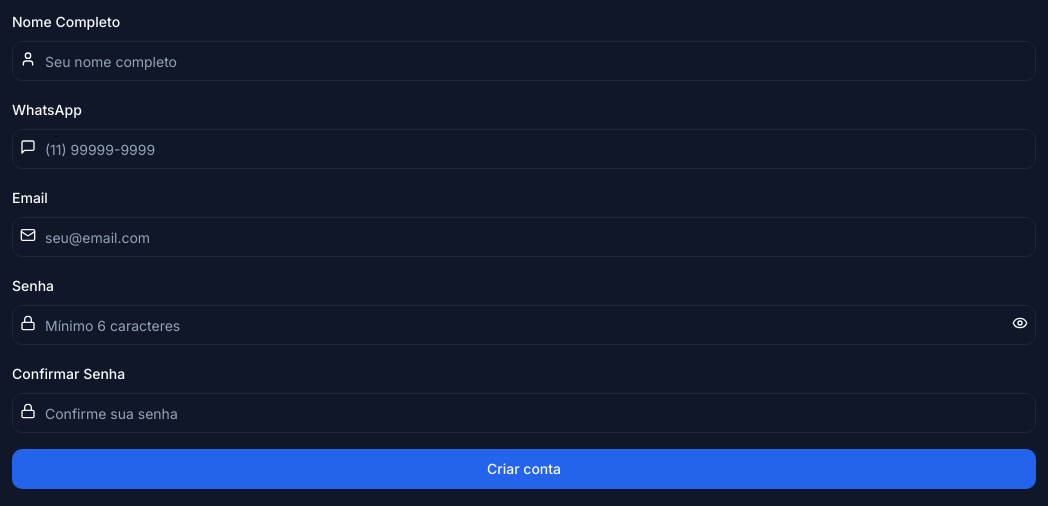
Test case: SignUpForm Component › Submissão do Formulário › deve mostrar estado de carregamento durante submissão
Step 1. Type "João Silva" into the field labelled "Nome Completo" → (524, 61), box [12,41,1036,81]
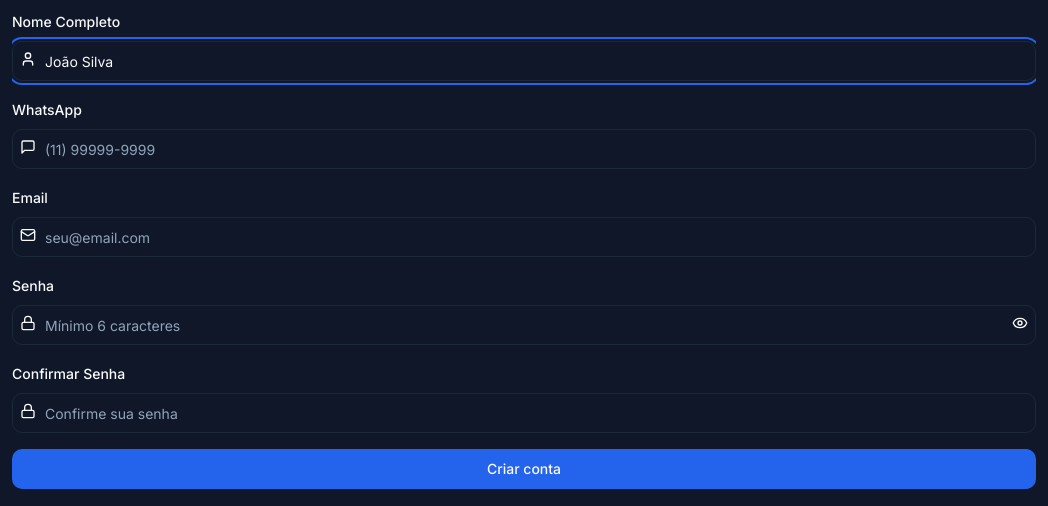
Step 2. Type "11999999999" into the field labelled "WhatsApp" → (524, 149), box [12,129,1036,169]
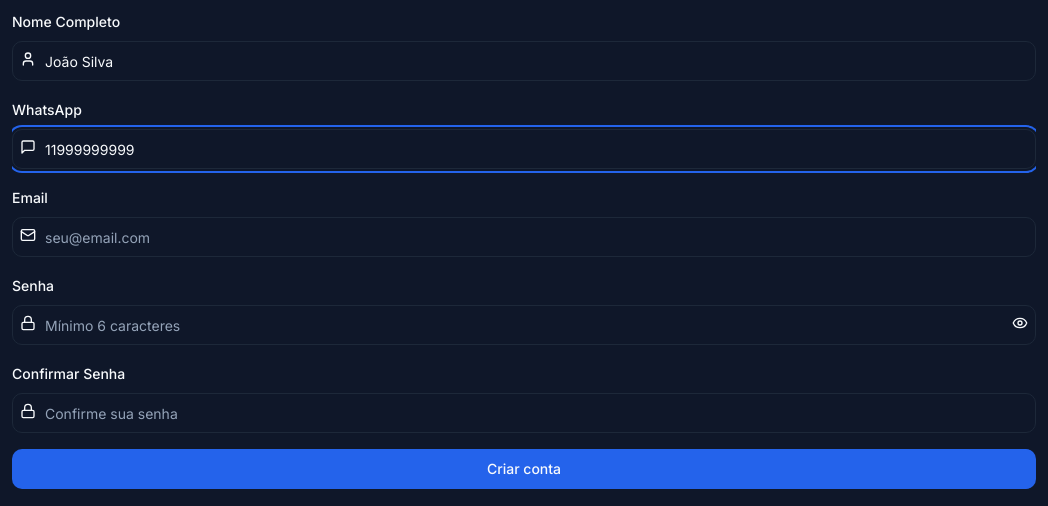
Step 3. Type "joao@test.com" into the field labelled "Email" → (524, 237), box [12,217,1036,257]
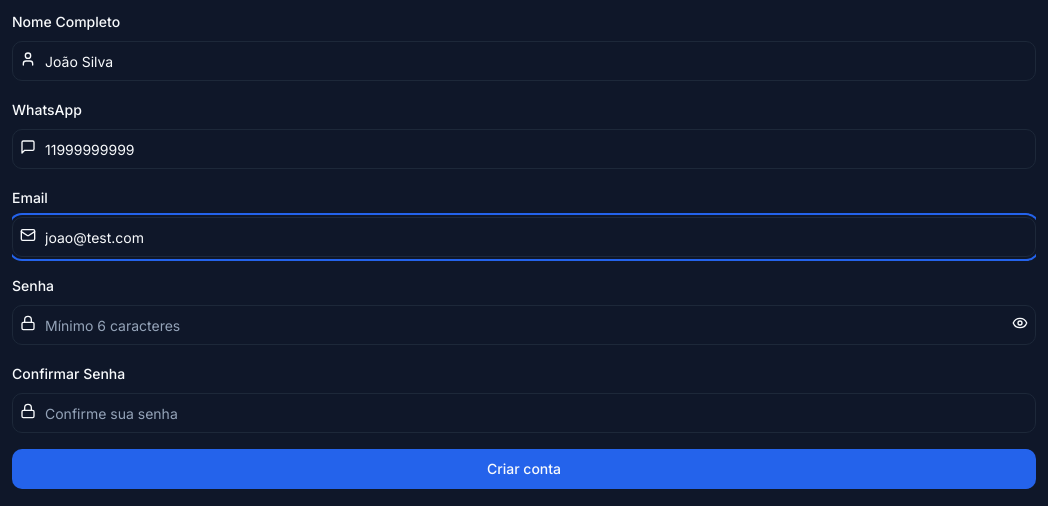
Step 4. Type "password123" into the password field labelled "Senha" → (524, 325), box [12,305,1036,345]
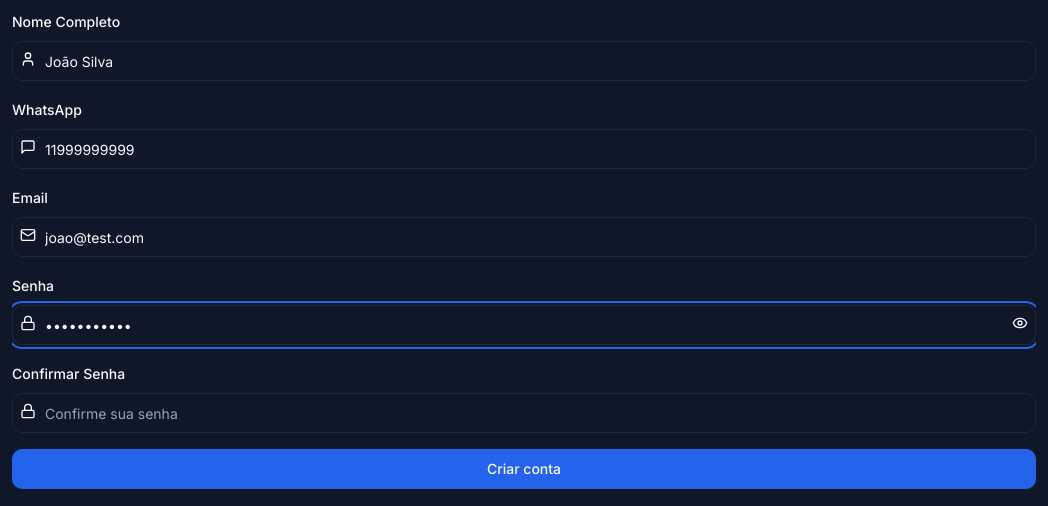
Step 5. Type "password123" into the password field labelled "Confirmar Senha" → (524, 413), box [12,393,1036,433]
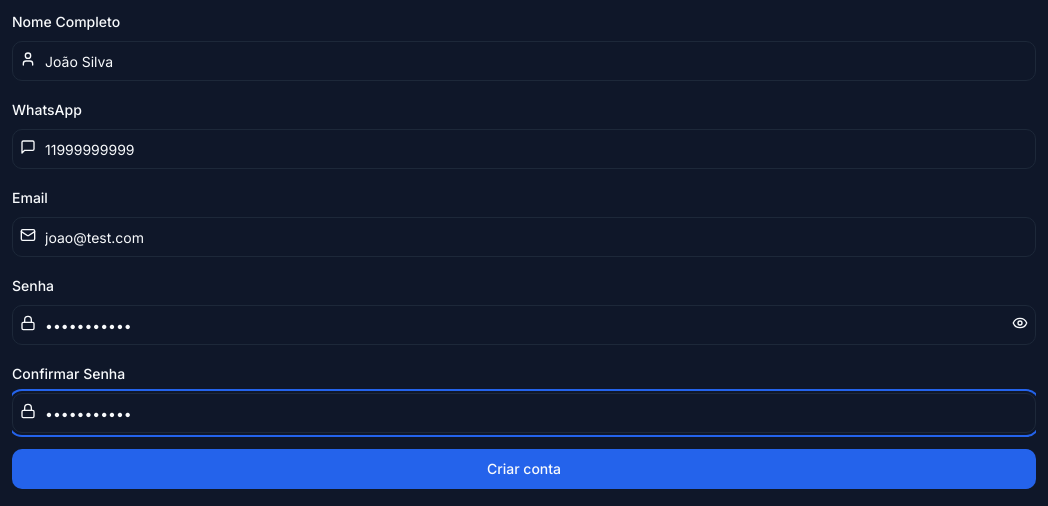
Step 6. Click the button "Criar conta" → (524, 469), box [12,449,1036,489]
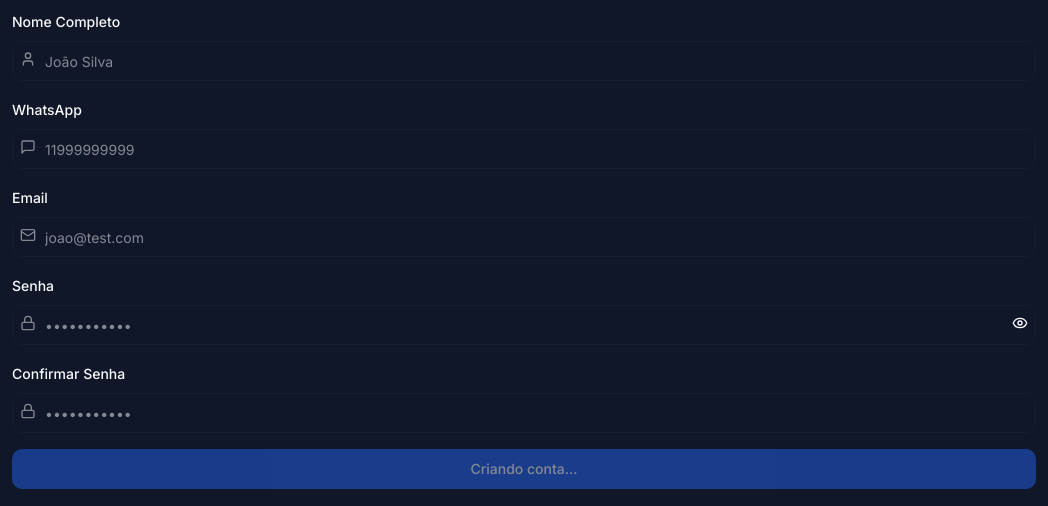
Check: the field labelled "Nome Completo" is disabled, box [12,41,1036,81]
Check: the field labelled "WhatsApp" is disabled, box [12,129,1036,169]
Check: the field labelled "Email" is disabled, box [12,217,1036,257]
